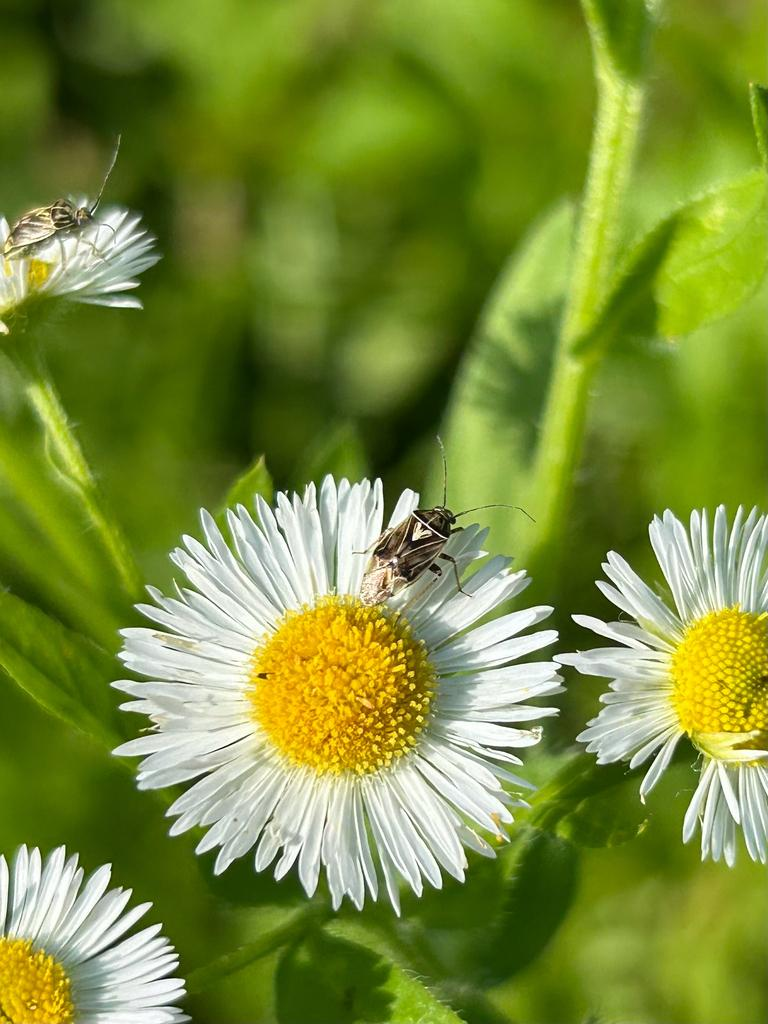plant_bugs: (332, 422, 549, 643)
